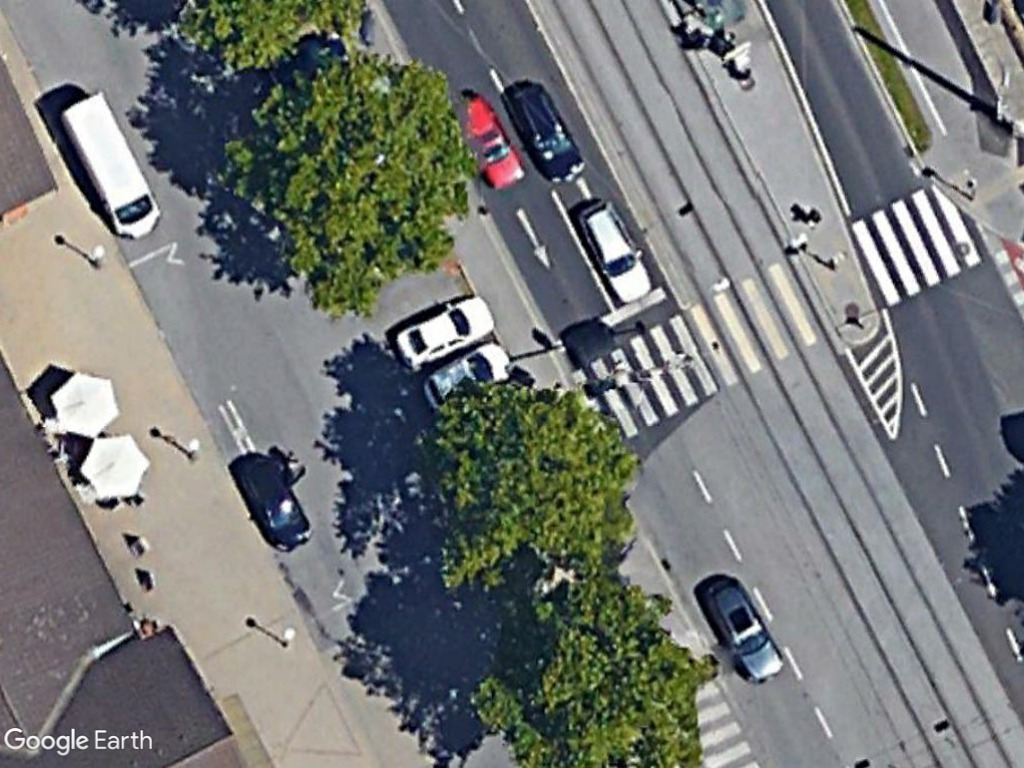car: (696, 573, 788, 687), (569, 194, 658, 308), (502, 75, 593, 186), (390, 292, 496, 373), (239, 451, 318, 557)
van: (51, 87, 164, 246)
